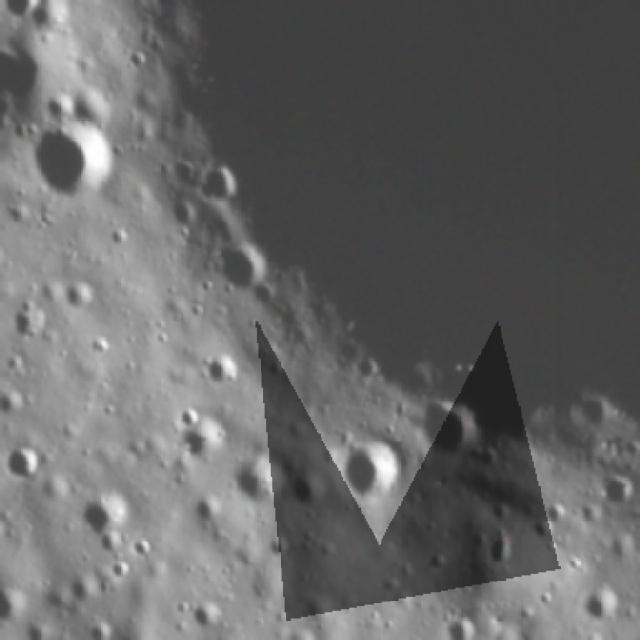crater: (22, 122, 108, 193), (332, 437, 398, 494), (420, 403, 475, 451), (231, 458, 289, 500), (201, 253, 270, 287), (570, 573, 621, 618), (196, 164, 242, 208), (178, 592, 228, 628), (2, 438, 35, 487), (77, 497, 117, 535), (8, 306, 52, 340), (178, 501, 222, 533), (595, 471, 634, 507), (203, 350, 237, 388), (185, 422, 222, 456), (442, 614, 486, 640), (42, 88, 82, 115)
